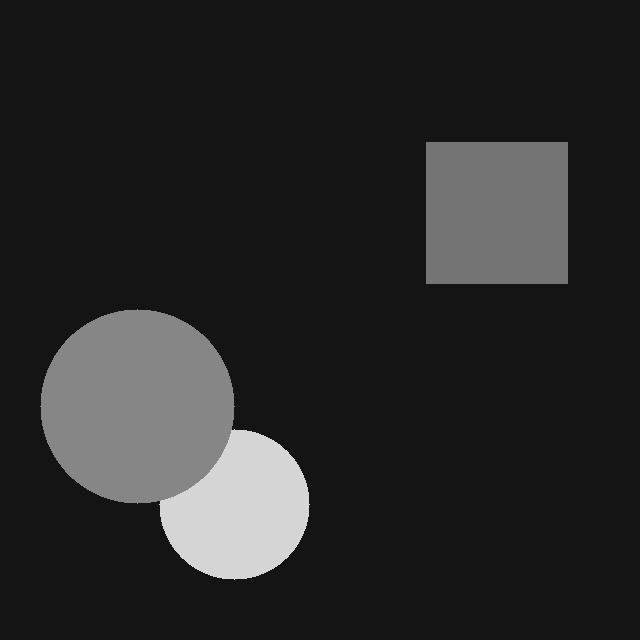circle: (40, 309, 234, 503), (159, 429, 309, 579)
square: (426, 142, 567, 283)
